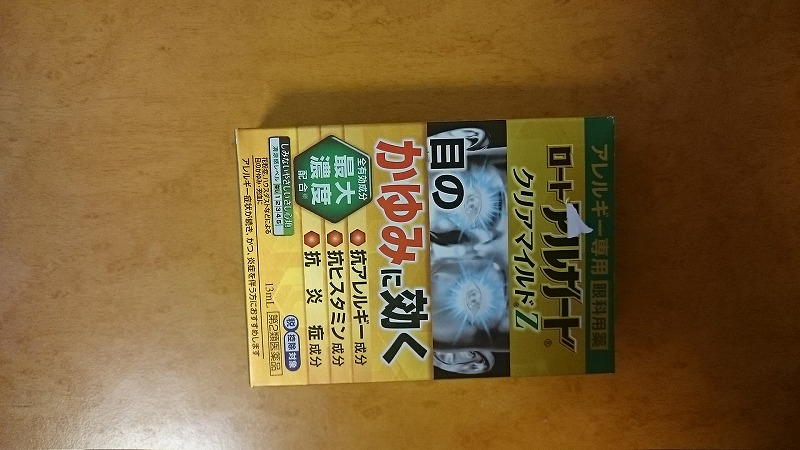C: (223, 111, 624, 385)
